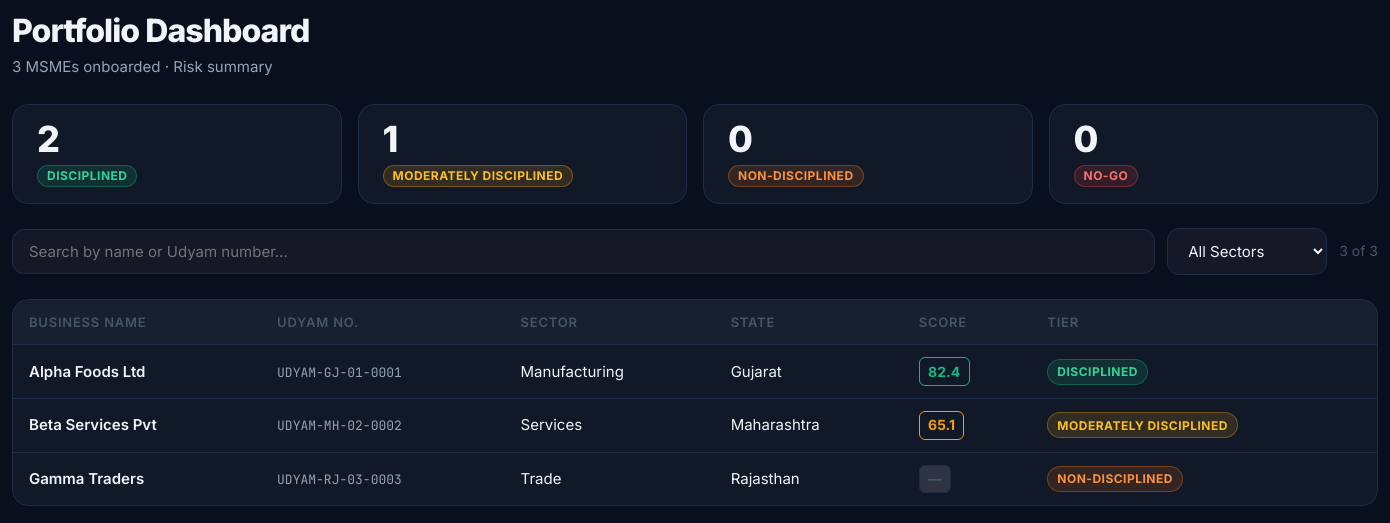
DashboardPage › sector filter narrows results to only services
Expected: the text "Alpha Foods Ltd" is shown, [13, 345, 261, 399]
Select "Services" in the dropdown named "filter by sector" at x=1247, y=251, box [1167, 228, 1327, 275]
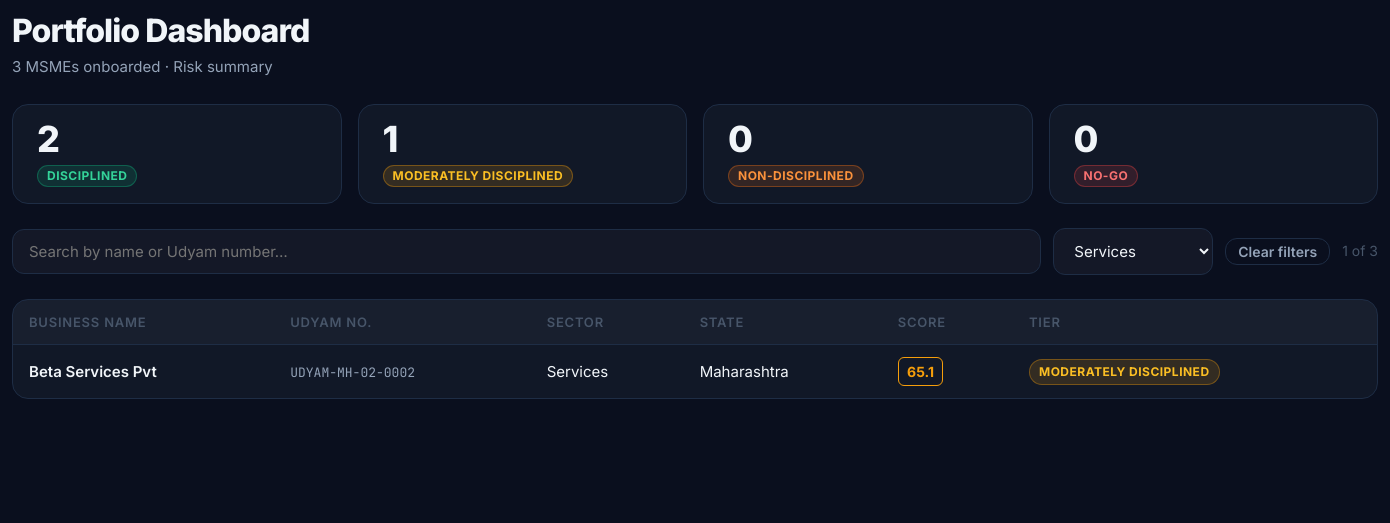
Expected: the text "Beta Services Pvt" is shown, [13, 345, 274, 398]
Expected: the button "Alpha Foods Ltd" is gone
